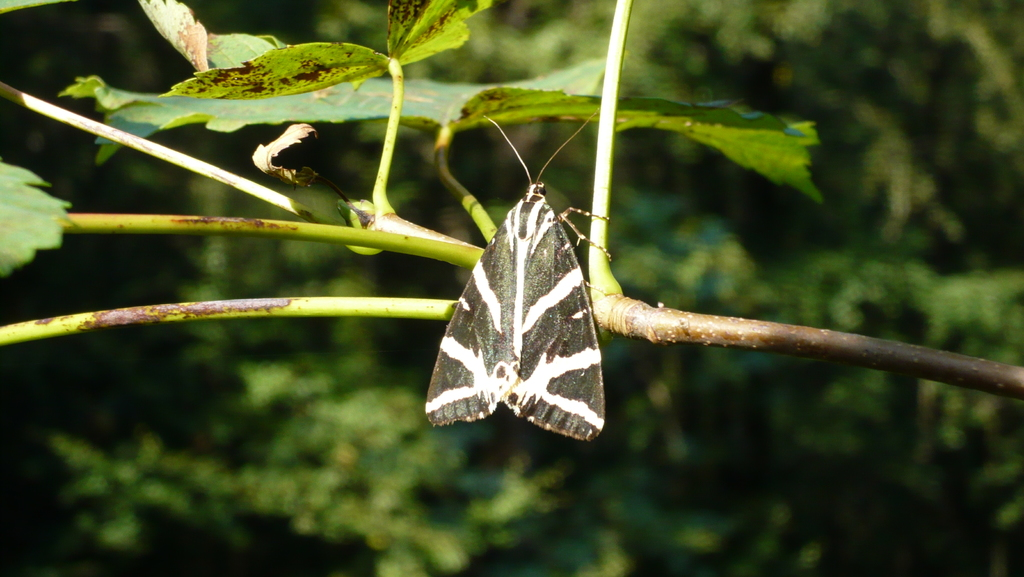Butterfly: (406, 111, 613, 462)
